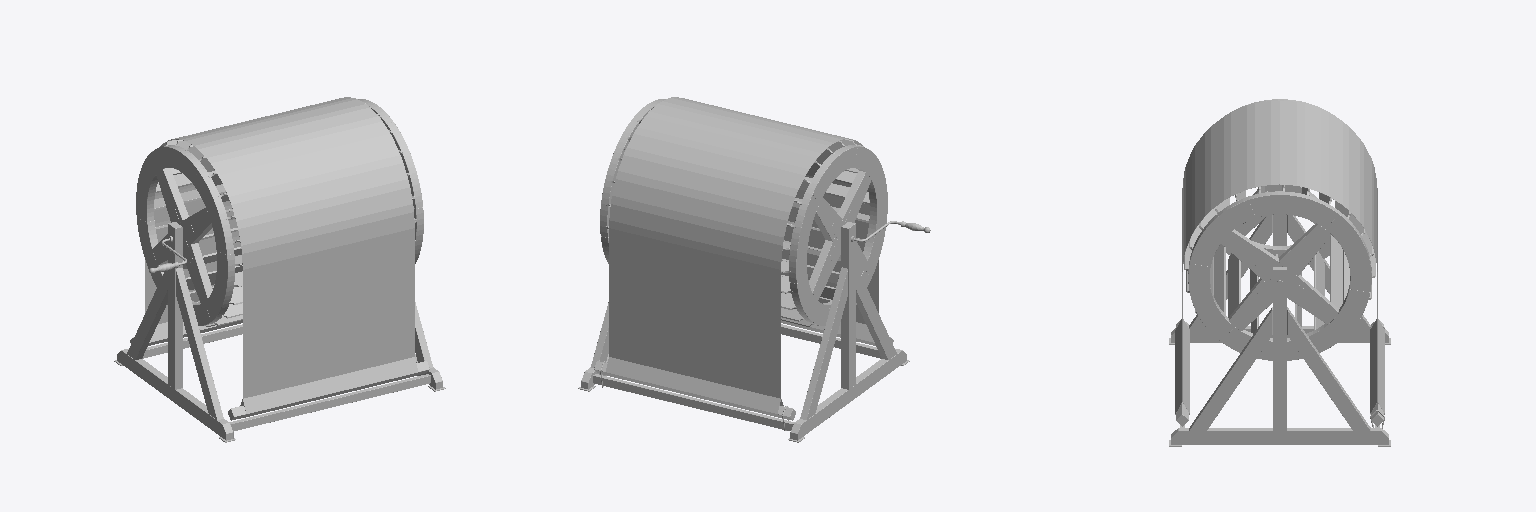
The model's file is baroqueMachinery_Wind.obj.
3 renders of one model, left to right at view 1: azimuth 30°, elevation 25°; view 2: azimuth 150°, elevation 25°; view 3: azimuth 270°, elevation 25°, orthographic.
Visible parts, largest first — view 1: Mesh1 fabric baroqueMachinery_Wind1 Model, Mesh57 horizontal1 baroqueMachinery_Wind_side2 baroqueMachinery_, Mesh58 vertical1 baroqueMachinery_Wind_side2 baroqueMachinery_Wi, Mesh66 horizontal_below1 baroqueMachinery_Wind1 Model, Mesh59 diagonal3 baroqueMachinery_Wind_side2 baroqueMachinery_Wi, Mesh44 drum_front_segment10 wood1 drum_front2 drum baroqueMachin, Mesh60 diagonal4 baroqueMachinery_Wind_side2 baroqueMachinery_Wi, Mesh45 drum_front_segment11 wood1 drum_front2 drum baroqueMachin, Mesh42 drum_front_segment8 wood1 drum_front2 drum baroqueMachine, Mesh43 drum_front_segment9 wood1 drum_front2 drum baroqueMachine, Mesh40 Group6 Group4 wood1 drum_front2 drum baroqueMachinery_Win, Mesh38 Group5 Group4 wood1 drum_front2 drum baroqueMachinery_Win (+5 smaller); view 2: Mesh1 fabric baroqueMachinery_Wind1 Model, Mesh58 vertical1 baroqueMachinery_Wind_side2 baroqueMachinery_Wi, Mesh57 horizontal1 baroqueMachinery_Wind_side2 baroqueMachinery_, Mesh60 diagonal4 baroqueMachinery_Wind_side2 baroqueMachinery_Wi, Mesh67 horizontal_below2 baroqueMachinery_Wind1 Model, Mesh40 Group6 Group4 wood1 drum_front2 drum baroqueMachinery_Win, Mesh42 drum_front_segment8 wood1 drum_front2 drum baroqueMachine, Mesh59 diagonal3 baroqueMachinery_Wind_side2 baroqueMachinery_Wi, Mesh43 drum_front_segment9 wood1 drum_front2 drum baroqueMachine, Mesh45 drum_front_segment11 wood1 drum_front2 drum baroqueMachin, Mesh41 drum_front_segment7 wood1 drum_front2 drum baroqueMachine, Mesh44 drum_front_segment10 wood1 drum_front2 drum baroqueMachin (+4 smaller); view 3: Mesh1 fabric baroqueMachinery_Wind1 Model, Mesh50 horizontal baroqueMachinery_Wind_side1 baroqueMachinery_W, Mesh30 Group3 Group1 wood drum_front1 drum baroqueMachinery_Wind, Mesh51 vertical baroqueMachinery_Wind_side1 baroqueMachinery_Win, Mesh52 diagonal1 baroqueMachinery_Wind_side1 baroqueMachinery_Wi, Mesh53 diagonal2 baroqueMachinery_Wind_side1 baroqueMachinery_Wi, Mesh35 drum_front_segment5 wood drum_front1 drum baroqueMachiner, Mesh34 drum_front_segment4 wood drum_front1 drum baroqueMachiner, Mesh36 drum_front_segment6 wood drum_front1 drum baroqueMachiner, Mesh33 drum_front_segment3 wood drum_front1 drum baroqueMachiner, Mesh31 drum_front_segment1 wood drum_front1 drum baroqueMachiner, Mesh29 Group2 Group1 wood drum_front1 drum baroqueMachinery_Wind (+9 smaller).
Part boxes in pixels (left/top/right/bottom): Mesh1 fabric baroqueMachinery_Wind1 Model: left=145, top=97, right=417, bottom=417; Mesh57 horizontal1 baroqueMachinery_Wind_side2 baroqueMachinery_: left=117, top=349, right=233, bottom=440; Mesh58 vertical1 baroqueMachinery_Wind_side2 baroqueMachinery_Wi: left=168, top=222, right=182, bottom=389; Mesh66 horizontal_below1 baroqueMachinery_Wind1 Model: left=229, top=374, right=430, bottom=431; Mesh59 diagonal3 baroqueMachinery_Wind_side2 baroqueMachinery_Wi: left=176, top=267, right=223, bottom=419; Mesh44 drum_front_segment10 wood1 drum_front2 drum baroqueMachin: left=194, top=168, right=233, bottom=254; Mesh60 diagonal4 baroqueMachinery_Wind_side2 baroqueMachinery_Wi: left=127, top=271, right=167, bottom=359; Mesh45 drum_front_segment11 wood1 drum_front2 drum baroqueMachin: left=205, top=251, right=234, bottom=321; Mesh42 drum_front_segment8 wood1 drum_front2 drum baroqueMachine: left=136, top=151, right=158, bottom=221; Mesh43 drum_front_segment9 wood1 drum_front2 drum baroqueMachine: left=153, top=145, right=204, bottom=184; Mesh40 Group6 Group4 wood1 drum_front2 drum baroqueMachinery_Win: left=152, top=208, right=212, bottom=265; Mesh38 Group5 Group4 wood1 drum_front2 drum baroqueMachinery_Win: left=156, top=168, right=188, bottom=222; Mesh1 fabric baroqueMachinery_Wind1 Model: left=606, top=97, right=878, bottom=417; Mesh58 vertical1 baroqueMachinery_Wind_side2 baroqueMachinery_Wi: left=841, top=222, right=855, bottom=389; Mesh57 horizontal1 baroqueMachinery_Wind_side2 baroqueMachinery_: left=790, top=349, right=906, bottom=440; Mesh60 diagonal4 baroqueMachinery_Wind_side2 baroqueMachinery_Wi: left=800, top=267, right=847, bottom=419; Mesh67 horizontal_below2 baroqueMachinery_Wind1 Model: left=593, top=374, right=794, bottom=430; Mesh40 Group6 Group4 wood1 drum_front2 drum baroqueMachinery_Win: left=809, top=171, right=870, bottom=299; Mesh42 drum_front_segment8 wood1 drum_front2 drum baroqueMachine: left=789, top=193, right=818, bottom=283; Mesh59 diagonal3 baroqueMachinery_Wind_side2 baroqueMachinery_Wi: left=856, top=265, right=896, bottom=359; Mesh43 drum_front_segment9 wood1 drum_front2 drum baroqueMachine: left=805, top=145, right=857, bottom=203; Mesh45 drum_front_segment11 wood1 drum_front2 drum baroqueMachin: left=863, top=190, right=887, bottom=278; Mesh41 drum_front_segment7 wood1 drum_front2 drum baroqueMachine: left=790, top=274, right=829, bottom=325; Mesh44 drum_front_segment10 wood1 drum_front2 drum baroqueMachin: left=852, top=145, right=886, bottom=199; Mesh1 fabric baroqueMachinery_Wind1 Model: left=1175, top=101, right=1384, bottom=414; Mesh50 horizontal baroqueMachinery_Wind_side1 baroqueMachinery_W: left=1171, top=428, right=1388, bottom=444; Mesh30 Group3 Group1 wood drum_front1 drum baroqueMachinery_Wind: left=1221, top=229, right=1338, bottom=324; Mesh51 vertical baroqueMachinery_Wind_side1 baroqueMachinery_Win: left=1273, top=267, right=1286, bottom=430; Mesh52 diagonal1 baroqueMachinery_Wind_side1 baroqueMachinery_Wi: left=1287, top=307, right=1370, bottom=430; Mesh53 diagonal2 baroqueMachinery_Wind_side1 baroqueMachinery_Wi: left=1189, top=307, right=1272, bottom=430; Mesh35 drum_front_segment5 wood drum_front1 drum baroqueMachiner: left=1249, top=191, right=1338, bottom=228; Mesh34 drum_front_segment4 wood drum_front1 drum baroqueMachiner: left=1190, top=196, right=1255, bottom=266; Mesh36 drum_front_segment6 wood drum_front1 drum baroqueMachiner: left=1326, top=211, right=1371, bottom=291; Mesh33 drum_front_segment3 wood drum_front1 drum baroqueMachiner: left=1188, top=261, right=1233, bottom=340; Mesh31 drum_front_segment1 wood drum_front1 drum baroqueMachiner: left=1307, top=289, right=1369, bottom=352; Mesh29 Group2 Group1 wood drum_front1 drum baroqueMachinery_Wind: left=1279, top=223, right=1330, bottom=275.
Bounding box in the file's own units: 1.45 × 1.29 × 1.04.